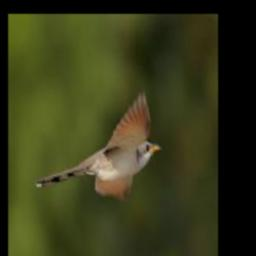Cuckoo: (35, 93, 161, 194)
